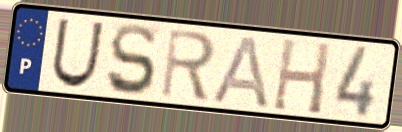4: (332, 44, 379, 121)
A: (209, 33, 272, 111)
H: (270, 35, 334, 118)
R: (158, 27, 218, 104)
S: (104, 21, 158, 98)
U: (48, 15, 107, 90)
